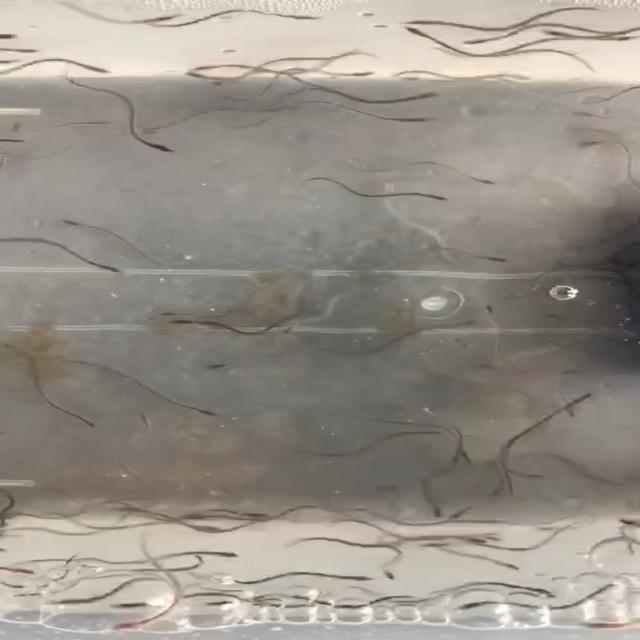active_glass_eel: (128, 411, 164, 437), (392, 21, 434, 43), (47, 594, 96, 612), (77, 60, 121, 79), (453, 33, 498, 51), (136, 136, 176, 156), (83, 115, 124, 134), (573, 136, 616, 154), (163, 311, 208, 328), (182, 68, 220, 88), (414, 190, 456, 208), (0, 560, 46, 576), (536, 22, 574, 40), (56, 213, 94, 231), (472, 303, 508, 322), (464, 170, 498, 190), (398, 16, 446, 30), (106, 596, 148, 612), (88, 261, 125, 279), (132, 13, 179, 27), (5, 39, 41, 57), (398, 113, 440, 128), (575, 102, 612, 119), (602, 30, 640, 46), (110, 619, 150, 634), (474, 248, 512, 263), (404, 90, 444, 104), (501, 65, 536, 81), (158, 305, 193, 321), (522, 275, 550, 295), (200, 357, 231, 375), (579, 619, 621, 632), (288, 11, 329, 24), (70, 414, 103, 430), (344, 570, 377, 586), (188, 64, 225, 78), (0, 118, 26, 137), (442, 600, 483, 612), (186, 403, 218, 418), (459, 532, 493, 546), (537, 306, 568, 321), (239, 507, 272, 521), (482, 484, 509, 501), (530, 585, 560, 600), (449, 316, 483, 329), (347, 68, 378, 82), (204, 547, 240, 559), (498, 558, 524, 574), (423, 502, 447, 519), (613, 516, 640, 531), (377, 567, 402, 583), (448, 508, 473, 522), (279, 324, 302, 338), (560, 402, 580, 418), (480, 531, 506, 543), (0, 29, 21, 41)
